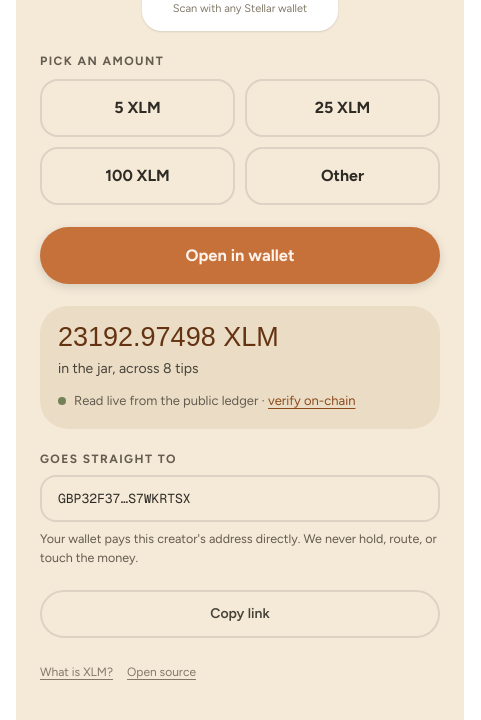
Test case: tip page — copy link › shows a confirmation state after copying
(page scrolled)
Click the button "Copy link" at (240, 614), box [40,590,440,638]
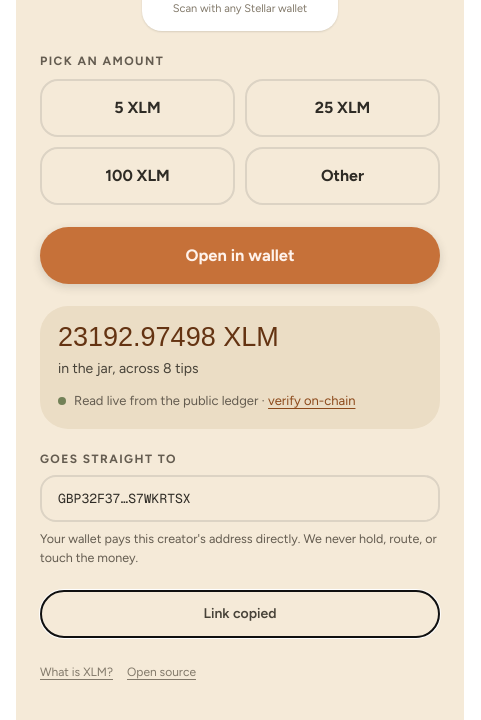
Result: the button "Link copied" is shown at [40,590,440,638]
Result: the button "Copy link" is gone
